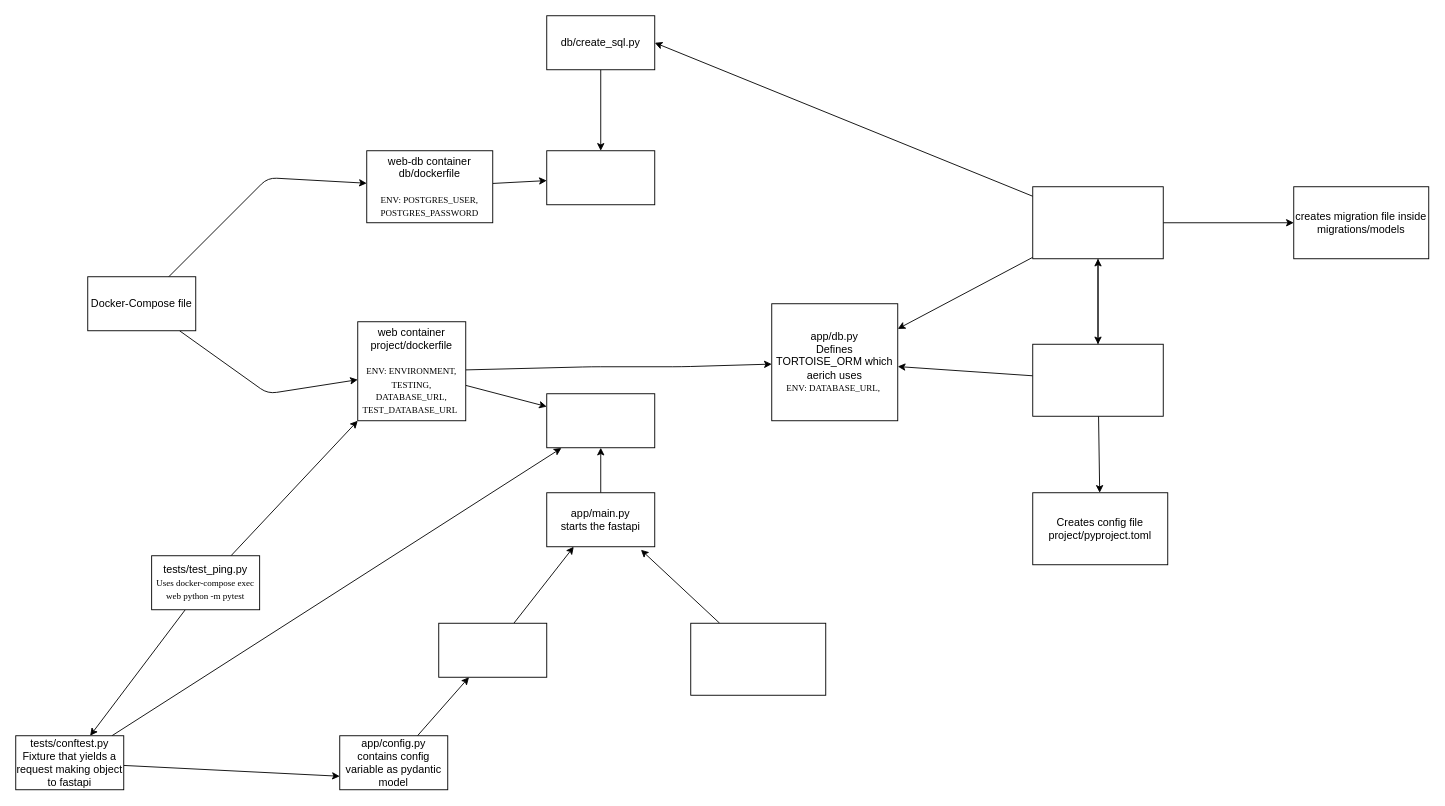
The diagram is 1445 pixels wide and 806 high, and some of its shapes have lost their labels. The box of each missing label's shape, as (x1, y1, x2, y2) in pixels:
app/api/ping.py Router file: (438, 622, 547, 677)
app/models/tortoise.py Defines the Schema model The connection just exists: (690, 622, 826, 695)
Creates Databases: (546, 150, 655, 205)
docker-compose exec web aerich init -t app.db.TORTOISE_ORM Initialises the ORM: (1032, 343, 1163, 416)
docker-compose exec web aerich init-db Creates tables in DB: (1032, 186, 1163, 259)
Starts uvicorn fastapi server: (546, 393, 655, 448)
